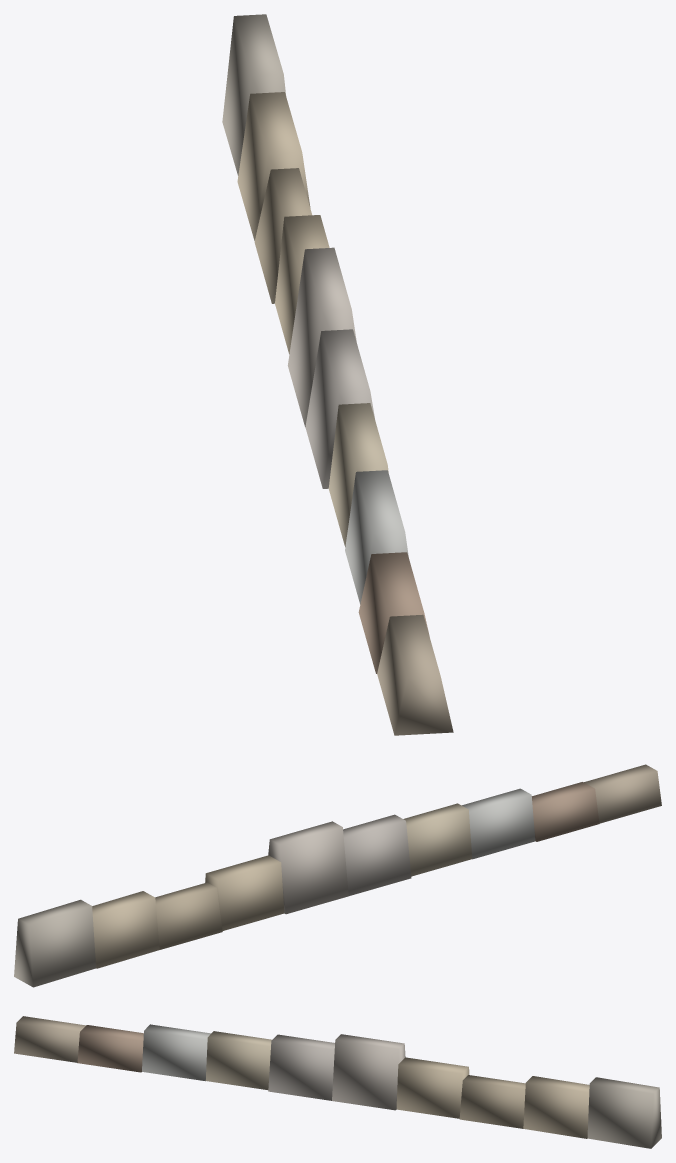
The model's file is farm_5_3_collision.glb.
The picture shows the model from 3 angles, top to bottom: view 1: azimuth 30°, elevation 25°; view 2: azimuth 150°, elevation 25°; view 3: azimuth 270°, elevation 25°; orthographic projection. The views are drawn at different scales.
Visible parts, largest first — view 1: geometry_0; view 2: geometry_0; view 3: geometry_0.
Part boxes in pixels (bbox=[...]): geometry_0: bbox=[222, 14, 453, 735]; geometry_0: bbox=[14, 764, 661, 987]; geometry_0: bbox=[14, 1016, 661, 1148].
Bounding box in the file's own units: 6.74 × 1.77 × 14.86.
